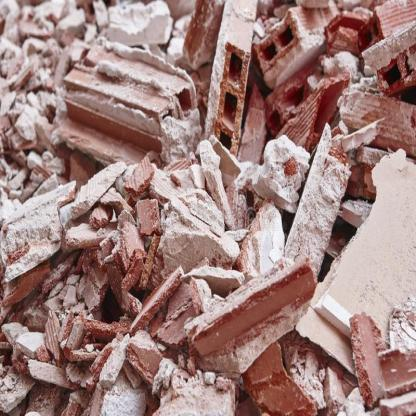brick: (1, 2, 415, 414)
